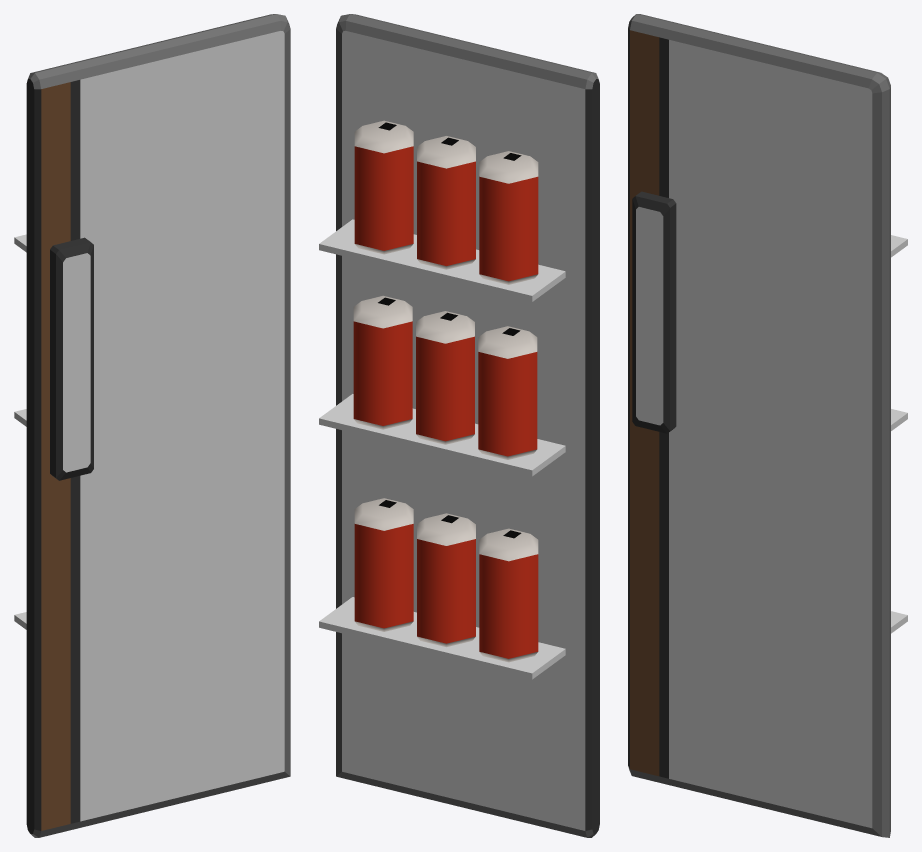
File: fridge_door_right.gltf
The picture shows the model from 3 angles, left to right: view 1: azimuth 30°, elevation 25°; view 2: azimuth 150°, elevation 25°; view 3: azimuth 330°, elevation 25°; orthographic projection.
Parts seen in each view (by area): view 1: Cube.017; view 2: Cube.017, Can.030, Can.027, Can.031, Can.028, Can.025, Can.033, Can.032, Can.026, Can.029, Cube.049, Cube.051 (+1 smaller); view 3: Cube.017.
Boxes of the visible parts, bbox=[...] form: Cube.017: bbox=[26, 14, 290, 837]; Cube.017: bbox=[336, 14, 599, 837]; Can.030: bbox=[353, 295, 412, 429]; Can.027: bbox=[354, 120, 413, 254]; Can.031: bbox=[479, 528, 538, 662]; Can.028: bbox=[478, 326, 537, 459]; Can.025: bbox=[479, 151, 538, 284]; Can.033: bbox=[354, 498, 413, 631]; Can.032: bbox=[417, 513, 475, 647]; Can.026: bbox=[417, 136, 475, 269]; Can.029: bbox=[416, 311, 474, 444]; Cube.049: bbox=[319, 219, 565, 301]; Cube.051: bbox=[319, 597, 565, 679]; Cube.017: bbox=[628, 14, 890, 837].
Size of the model in its own units: 0.8535 by 2.41 by 0.3103.
